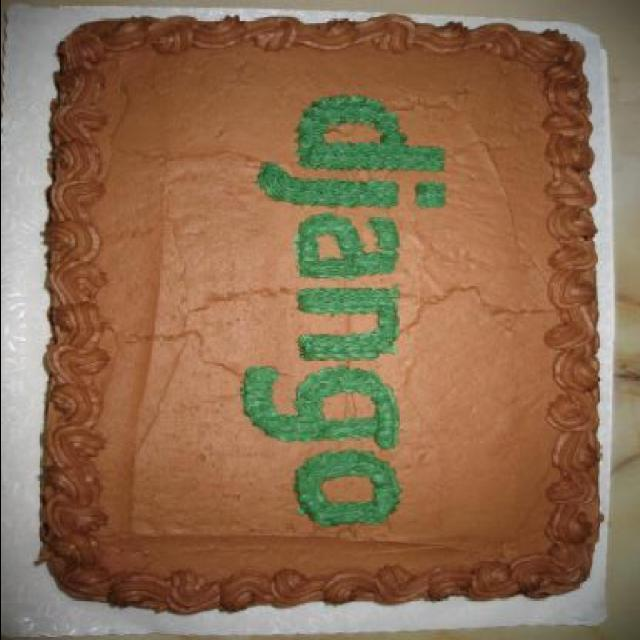Cake: (34, 15, 597, 617)
